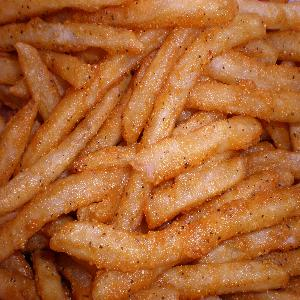fries: (4, 5, 300, 298)
